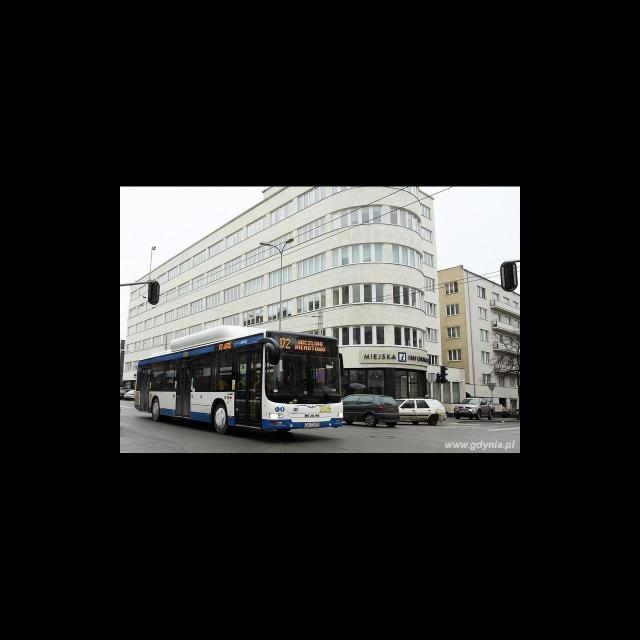Bus: (134, 326, 344, 434)
Car: (342, 394, 400, 428), (400, 398, 448, 426)
